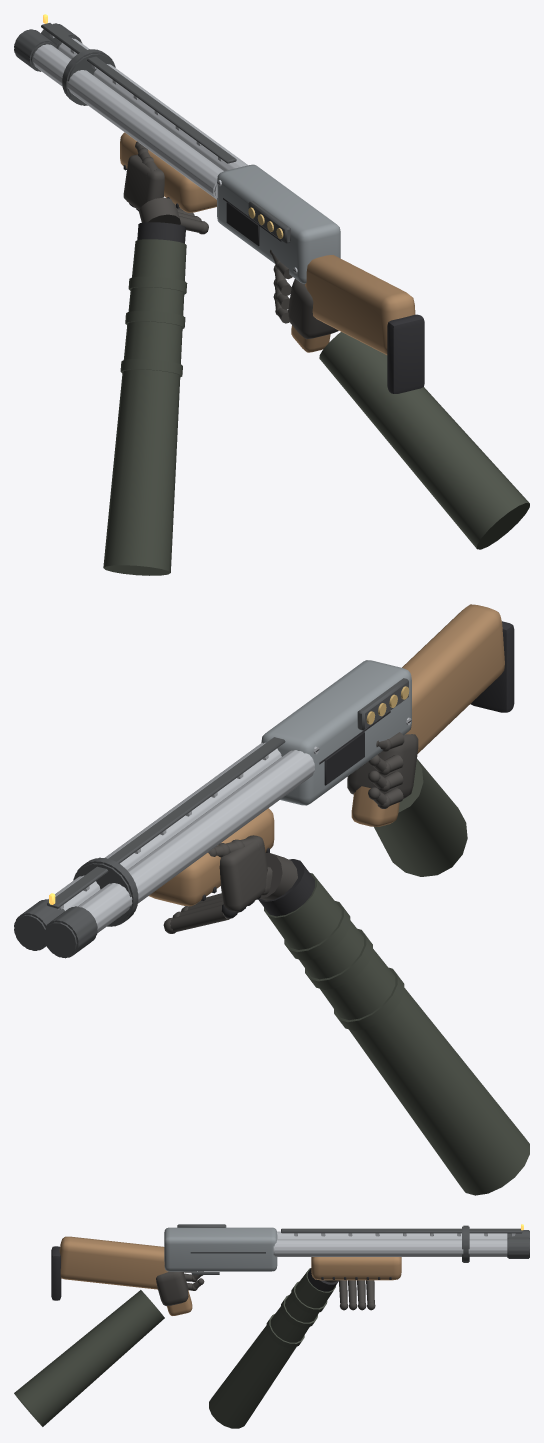
File: vm_scatter.glb
3 views of the same model, one above another, from view 1: azimuth 30°, elevation 25°; view 2: azimuth 150°, elevation 25°; view 3: azimuth 270°, elevation 25° (orthographic). The views are drawn at different scales.
Parts seen in each view (by area): view 1: vm_scatter; view 2: vm_scatter; view 3: vm_scatter.
Boxes of the visible parts, x1,y1,x2,y2 form: vm_scatter: (14, 14, 529, 575); vm_scatter: (14, 604, 529, 1195); vm_scatter: (14, 1224, 529, 1428).
Size of the model in its own units: 0.5298 by 0.7045 by 1.37.
